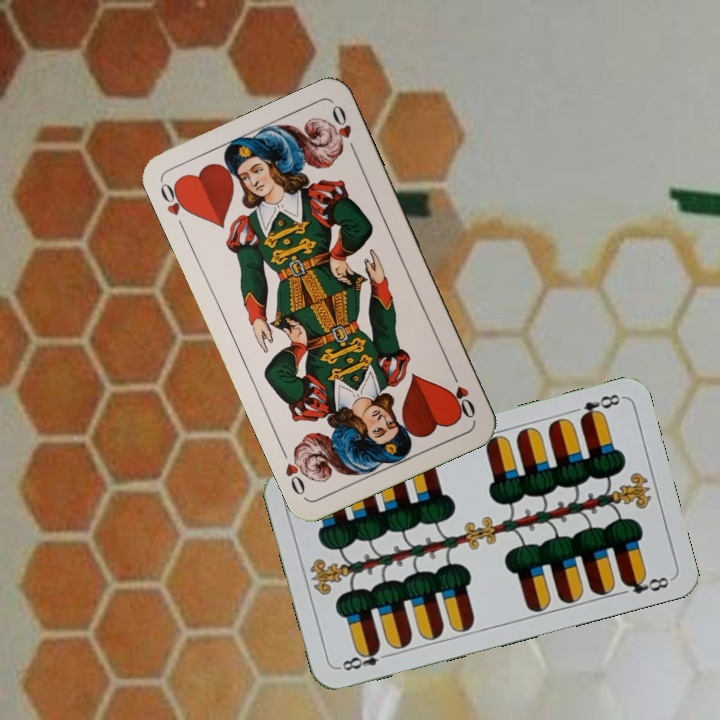E8: (335, 643, 394, 674), (575, 390, 624, 424)
HO: (156, 177, 193, 234), (446, 366, 478, 422)
